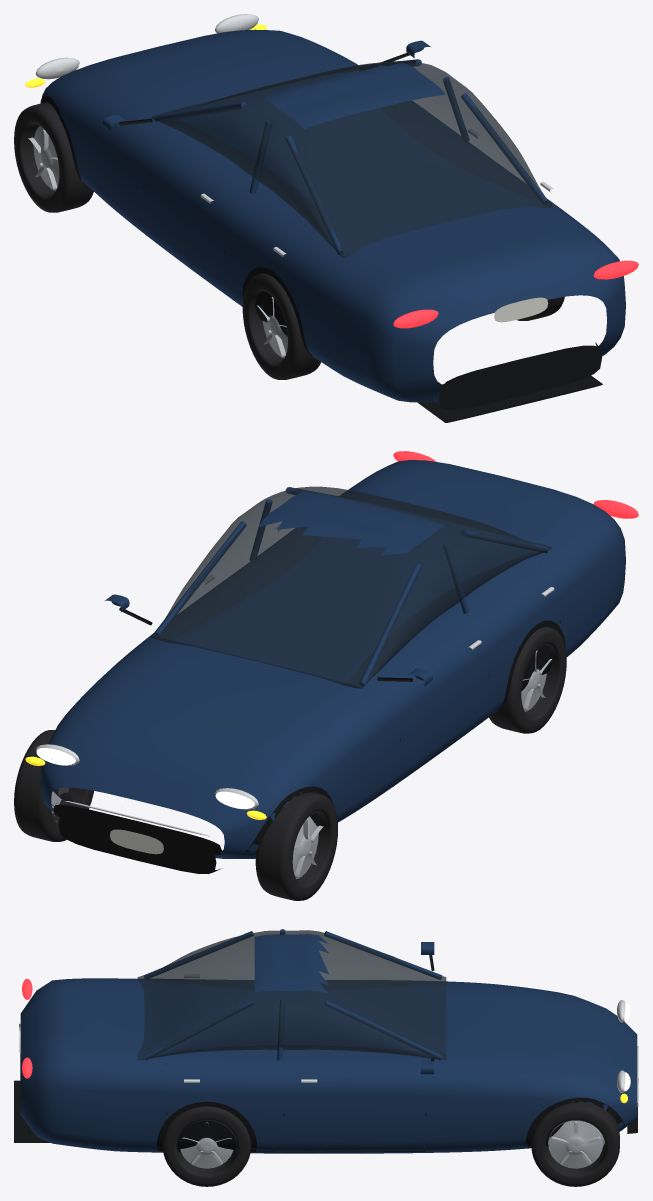
File: car.76eb8e09.glb
The picture shows the model from 3 angles, top to bottom: view 1: azimuth 30°, elevation 25°; view 2: azimuth 150°, elevation 25°; view 3: azimuth 270°, elevation 25°; orthographic projection. The views are drawn at different scales.
Parts seen in each view (by area): view 1: chassis, wheel_fl, wheel_rl; view 2: chassis, wheel_fl, wheel_rl, wheel_fr; view 3: chassis, wheel_fr, wheel_rr.
Boxes of the visible parts, x1,y1,x2,y2 form: chassis: (25,14,638,422); wheel_fl: (14,102,93,212); wheel_rl: (242,273,320,379); chassis: (25,451,638,873); wheel_fl: (255,792,337,900); wheel_rl: (489,627,566,733); wheel_fr: (14,730,93,841); chassis: (14,929,638,1153); wheel_fr: (531,1102,619,1186); wheel_rr: (162,1106,251,1186).
Size of the model in its own units: 2.26 by 1.46 by 4.71.
